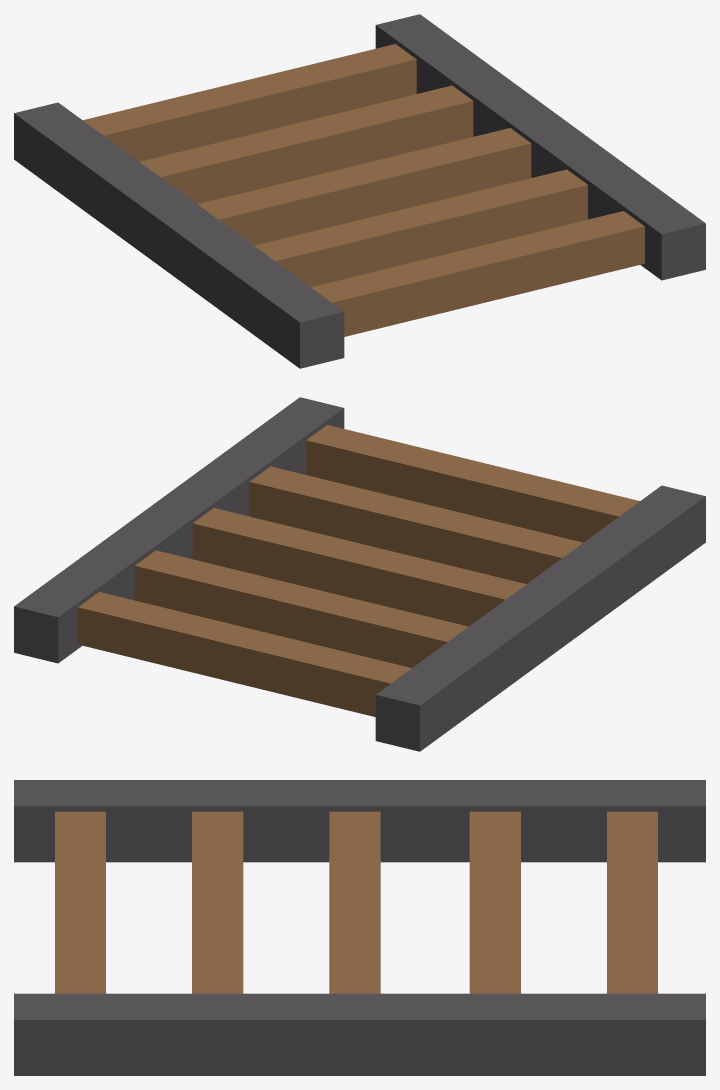
File: Rails 1.fbx
3 renders of one model, top to bottom at view 1: azimuth 30°, elevation 25°; view 2: azimuth 150°, elevation 25°; view 3: azimuth 270°, elevation 25°, orthographic. The views are drawn at different scales.
Parts seen in each view (by area): view 1: рельса; view 2: рельса; view 3: рельса.
Part boxes in pixels (<box>): рельса: <box>14,14,705,368</box>; рельса: <box>14,397,705,751</box>; рельса: <box>14,780,705,1075</box>.
Size of the model in its own units: 222 by 24.14 by 270.
